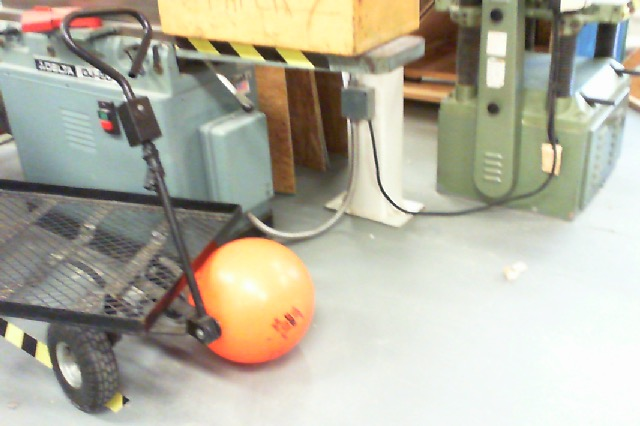Ball: (188, 237, 314, 364)
